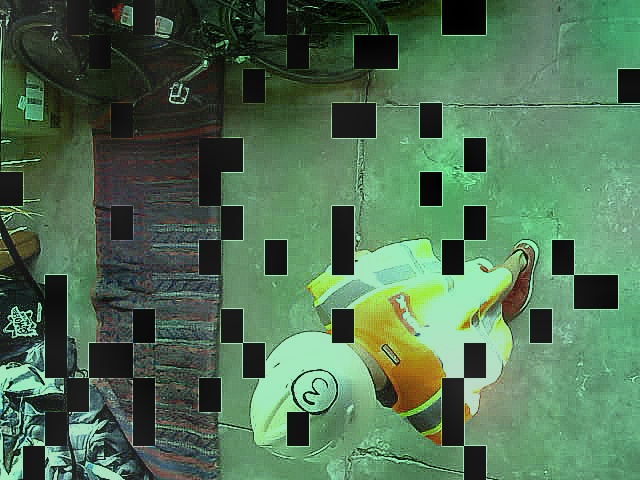three: (291, 370, 337, 414)
